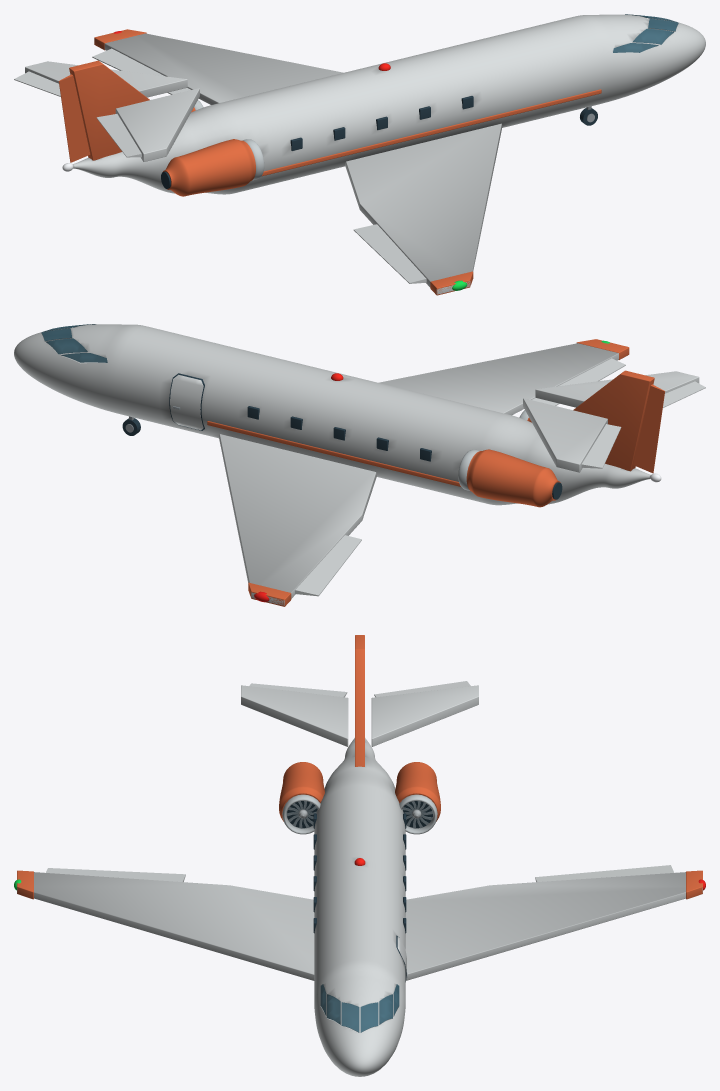
The picture shows the model from 3 angles, top to bottom: view 1: azimuth 30°, elevation 25°; view 2: azimuth 150°, elevation 25°; view 3: azimuth 270°, elevation 25°; orthographic projection.
Parts seen in each view (by area): view 1: Fuselage, Wing 1, Wing -1, Nacelle 1, Vertical stabilizer, Tailplane 1, Tailplane -1, Livery 1, Rudder, Right Aileron, Right Elevator, Left Aileron (+3 smaller); view 2: Fuselage, Wing -1, Wing 1, Nacelle -1, Vertical stabilizer, Tailplane -1, Tailplane 1, Rudder, Boarding door skin, Left Aileron, Livery -1, Left Elevator (+4 smaller); view 3: Fuselage, Wing 1, Wing -1, Tailplane -1, Tailplane 1, Nacelle -1, Nacelle 1, Vertical stabilizer, Left Aileron, Right Aileron.
Boxes of the visible parts, x1=… form: Fuselage: x1=73, y1=14, x2=705, y2=194; Wing 1: x1=345, y1=123, x2=502, y2=294; Wing -1: x1=104, y1=33, x2=343, y2=104; Nacelle 1: x1=163, y1=139, x2=255, y2=196; Vertical stabilizer: x1=69, y1=60, x2=149, y2=160; Tailplane 1: x1=115, y1=88, x2=199, y2=161; Tailplane -1: x1=25, y1=61, x2=187, y2=97; Livery 1: x1=261, y1=89, x2=601, y2=176; Rudder: x1=58, y1=74, x2=90, y2=162; Right Aileron: x1=353, y1=224, x2=426, y2=283; Right Elevator: x1=96, y1=114, x2=141, y2=157; Left Aileron: x1=92, y1=48, x2=190, y2=94; Fuselage: x1=14, y1=324, x2=650, y2=505; Wing -1: x1=219, y1=434, x2=376, y2=605; Wing 1: x1=378, y1=343, x2=618, y2=415; Nacelle -1: x1=466, y1=449, x2=560, y2=507; Vertical stabilizer: x1=573, y1=370, x2=654, y2=471; Tailplane -1: x1=523, y1=398, x2=607, y2=472; Tailplane 1: x1=535, y1=371, x2=699, y2=407; Rudder: x1=633, y1=384, x2=665, y2=473; Boarding door skin: x1=170, y1=374, x2=203, y2=430; Left Aileron: x1=295, y1=535, x2=361, y2=596; Livery -1: x1=207, y1=421, x2=460, y2=486; Left Elevator: x1=581, y1=424, x2=621, y2=468; Fuselage: x1=314, y1=738, x2=405, y2=1076; Wing 1: x1=17, y1=872, x2=314, y2=980; Wing -1: x1=405, y1=872, x2=702, y2=980; Tailplane -1: x1=371, y1=685, x2=478, y2=746; Tailplane 1: x1=241, y1=685, x2=348, y2=746; Nacelle -1: x1=395, y1=762, x2=440, y2=821; Nacelle 1: x1=279, y1=762, x2=324, y2=821; Vertical stabilizer: x1=355, y1=635, x2=364, y2=766; Left Aileron: x1=535, y1=865, x2=674, y2=882; Right Aileron: x1=46, y1=868, x2=185, y2=882.
Bounding box in the file's own units: 14.14 × 3.8 × 13.14.
